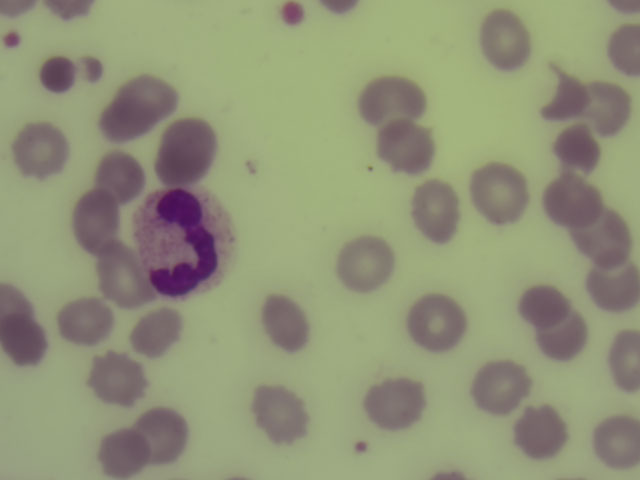Platelets: (283, 4, 307, 24), (5, 33, 21, 47)
RBC: (13, 121, 74, 182), (405, 178, 464, 241), (255, 383, 316, 443), (263, 291, 317, 357), (476, 164, 529, 230), (364, 377, 427, 432), (161, 118, 216, 181), (97, 246, 150, 311), (377, 114, 438, 170), (339, 234, 395, 292), (482, 11, 532, 73), (410, 298, 463, 355), (61, 289, 111, 348), (471, 360, 527, 411), (548, 175, 604, 225), (137, 408, 193, 457), (90, 357, 148, 403), (583, 211, 632, 265), (590, 256, 638, 311), (94, 430, 151, 476), (120, 77, 176, 123), (354, 82, 421, 120), (39, 55, 105, 93), (100, 149, 149, 198), (591, 79, 633, 136), (4, 313, 50, 363), (602, 410, 640, 470), (137, 304, 180, 357), (551, 127, 599, 174), (550, 67, 591, 118), (78, 191, 118, 243), (103, 102, 156, 141), (523, 286, 569, 330), (524, 406, 562, 457), (546, 315, 589, 360), (613, 331, 640, 387), (613, 22, 640, 77), (2, 283, 36, 326), (51, 2, 97, 19), (2, 1, 36, 15), (319, 1, 361, 12)
WBC: (142, 192, 237, 309)
